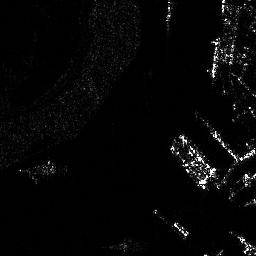ship: (153, 208, 189, 238), (210, 36, 222, 78)
